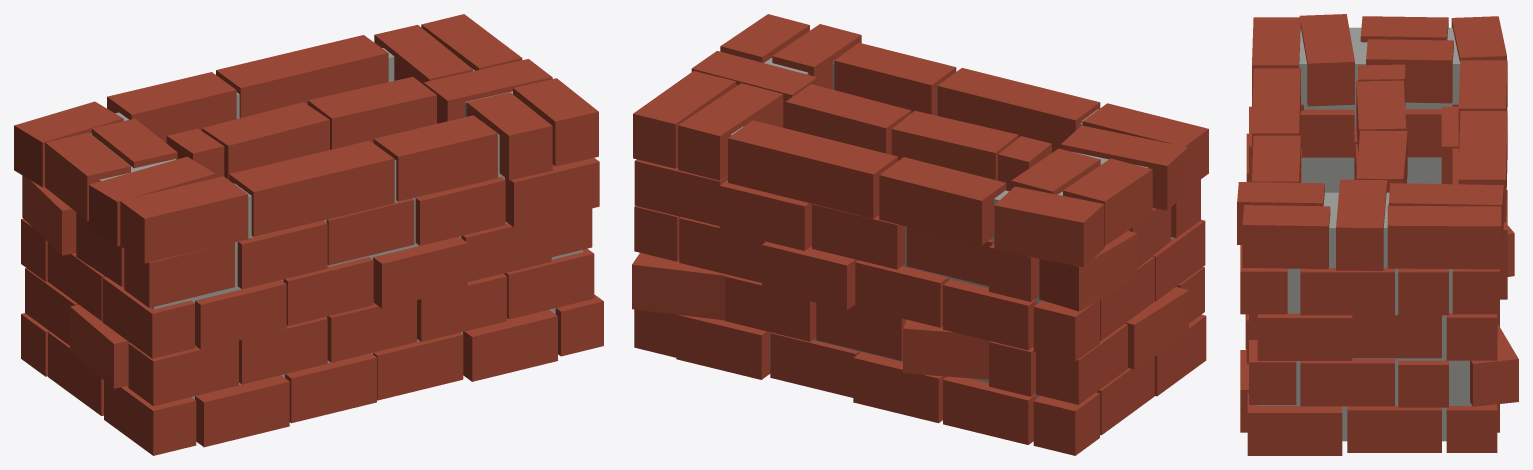
The model's file is MiniFurnaceToaster.fbx.
3 renders of one model, left to right at view 1: azimuth 30°, elevation 25°; view 2: azimuth 150°, elevation 25°; view 3: azimuth 270°, elevation 25°, orthographic. The views are drawn at different scales.
Visible parts, largest first — view 1: Blocks, Inside; view 2: Blocks, Inside; view 3: Blocks, Inside.
Boxes of the visible parts, bbox=[...] form: Blocks: bbox=[14, 14, 603, 455]; Inside: bbox=[90, 48, 582, 399]; Blocks: bbox=[632, 14, 1208, 455]; Inside: bbox=[730, 57, 1173, 398]; Blocks: bbox=[1237, 14, 1518, 455]; Inside: bbox=[1257, 27, 1484, 441].
Size of the model in its own units: 162 by 79.61 by 89.34.
